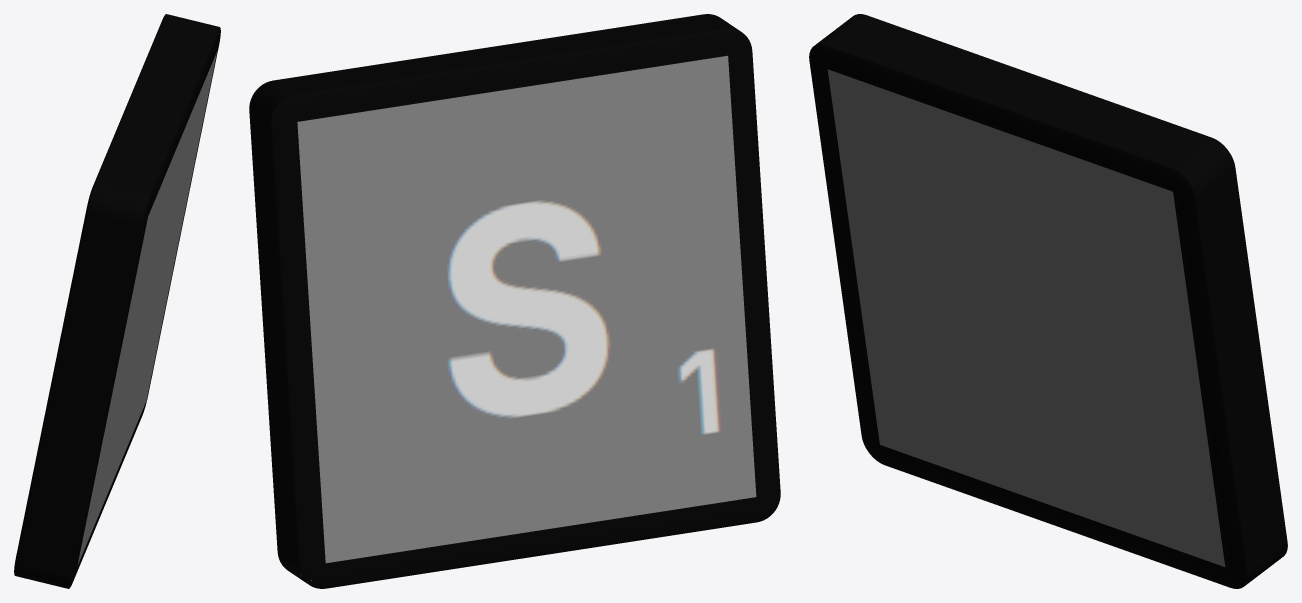
File: scrabdle.glb
3 renders of one model, left to right at view 1: azimuth 30°, elevation 25°; view 2: azimuth 150°, elevation 25°; view 3: azimuth 270°, elevation 25°, orthographic. The views are drawn at different scales.
Parts seen in each view (by area): view 1: Cube; view 2: Cube; view 3: Cube.
Part boxes in pixels (x1,y1,x2,y2): Cube: [14, 14, 220, 588]; Cube: [249, 14, 780, 588]; Cube: [809, 14, 1287, 588].
Bounding box in the file's own units: 4.28 × 5 × 4.71.
Materials: 3 (1 with a texture image).
